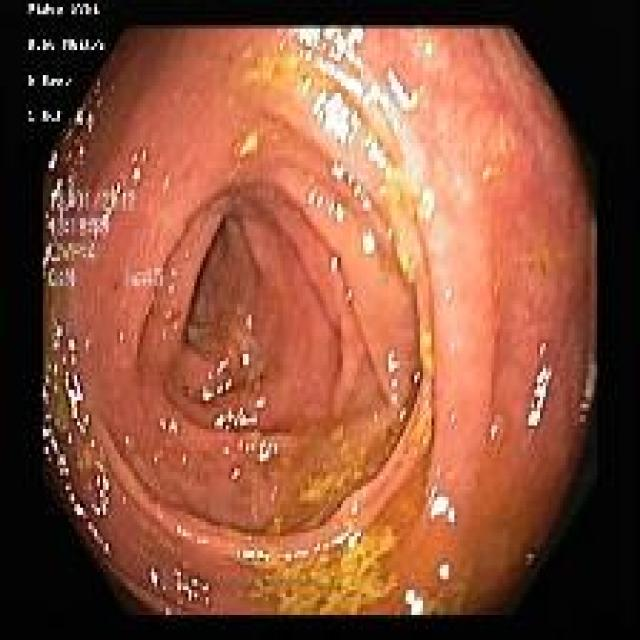ulcerative-colitis: (42, 27, 595, 615)
